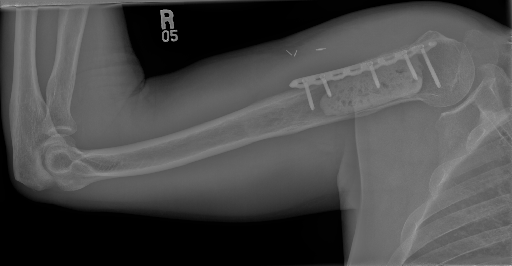implant: (290, 39, 443, 111)
